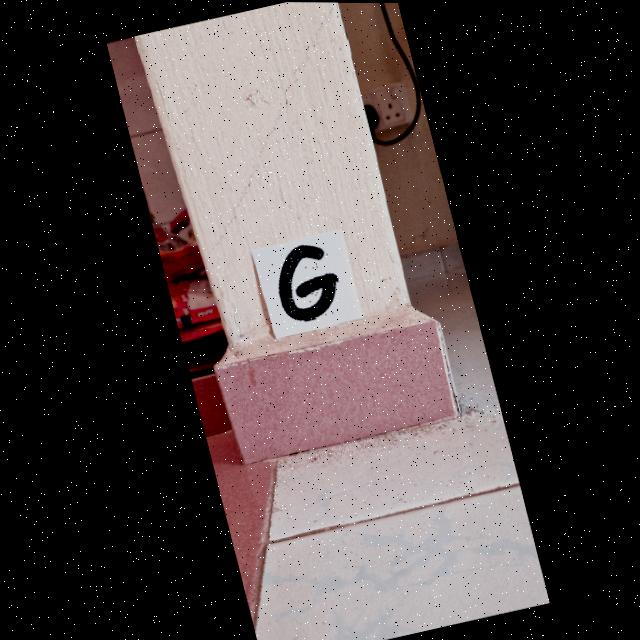G: (277, 245, 336, 321)
